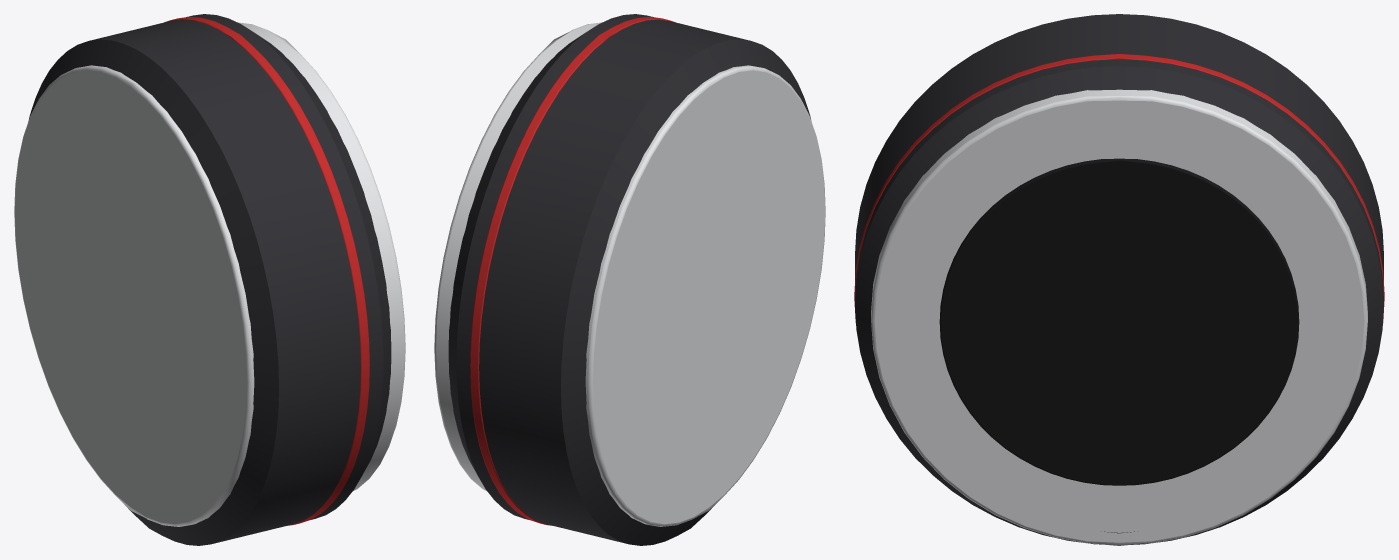
Rendered from metabones_ef_mft.glb.
3 renders of one model, left to right at view 1: azimuth 30°, elevation 25°; view 2: azimuth 150°, elevation 25°; view 3: azimuth 270°, elevation 25°, orthographic. The views are drawn at different scales.
Visible parts, largest first — view 1: Metabones Speed Booster EF-MFT; view 2: Metabones Speed Booster EF-MFT; view 3: Metabones Speed Booster EF-MFT.
Boxes of the visible parts, x1,y1,x2,y2 form: Metabones Speed Booster EF-MFT: [14, 14, 405, 545]; Metabones Speed Booster EF-MFT: [434, 14, 825, 545]; Metabones Speed Booster EF-MFT: [854, 14, 1384, 545].
Size of the model in its own units: 0.0255 by 0.0723 by 0.0722.
